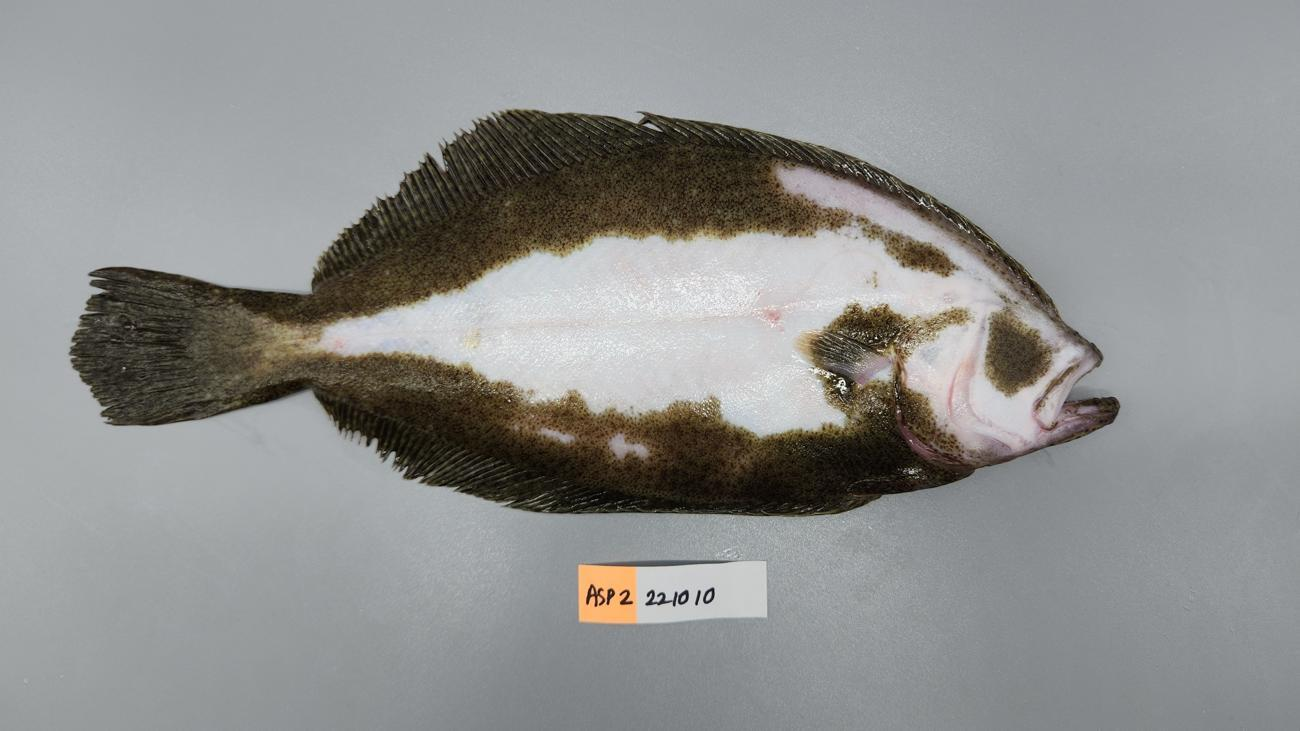SPDYH: (753, 286, 796, 335), (328, 333, 350, 357)
SPOUY: (65, 104, 1123, 522)
